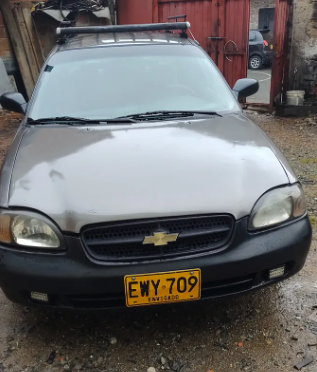placa: (123, 267, 201, 305)
